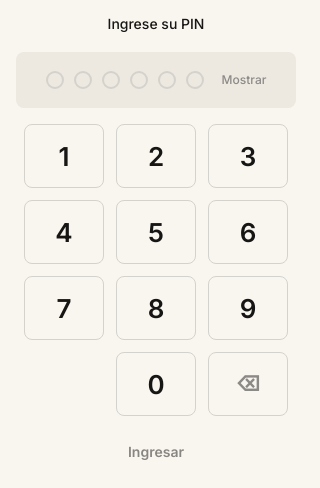
Scenario: PinKeypad › layout › renders the submit button disabled until at least 4 digits are entered
Check: the button "Ingresar" is disabled, box [16, 432, 296, 471]
Click the button "1" at coordinates (64, 156), box [24, 124, 104, 188]
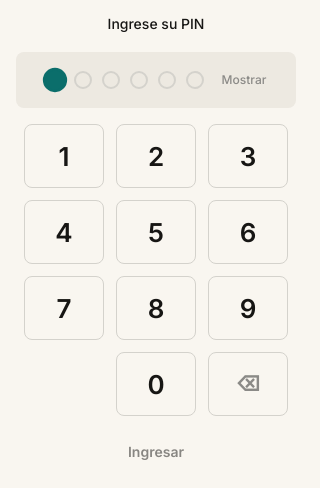
Click the button "2" at coordinates (156, 156), box [116, 124, 196, 188]
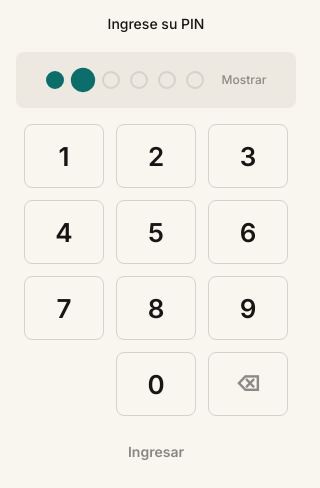
Click the button "3" at coordinates (248, 156), box [208, 124, 288, 188]
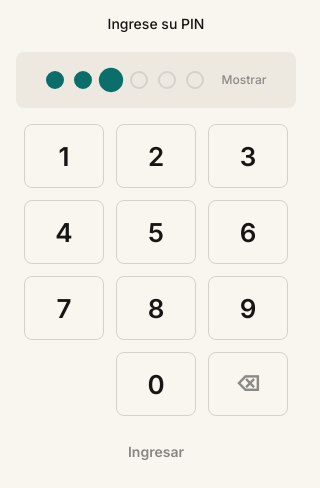
Check: the button "Ingresar" is disabled, box [16, 432, 296, 471]
Note: Enter the 4th digit — enabled
Click the button "4" at coordinates (64, 232), box [24, 200, 104, 264]
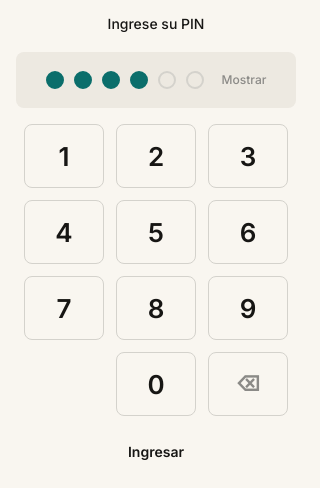
Check: the button "Ingresar" is enabled, box [16, 432, 296, 471]
